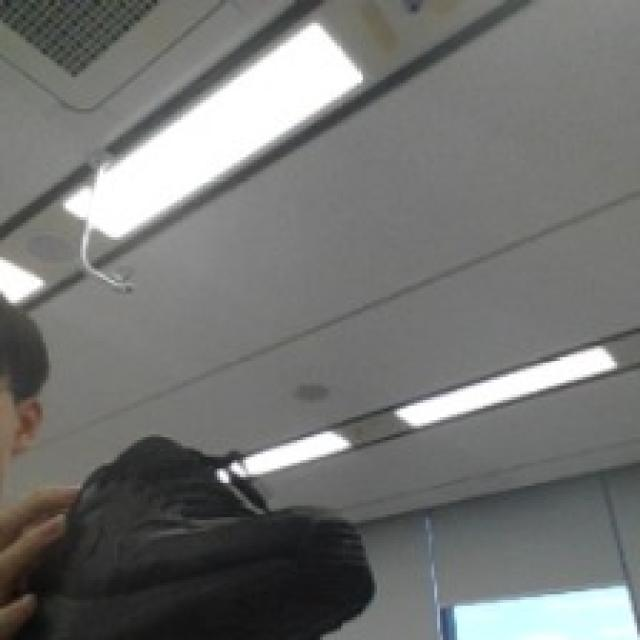shoe: (16, 315, 382, 632)
